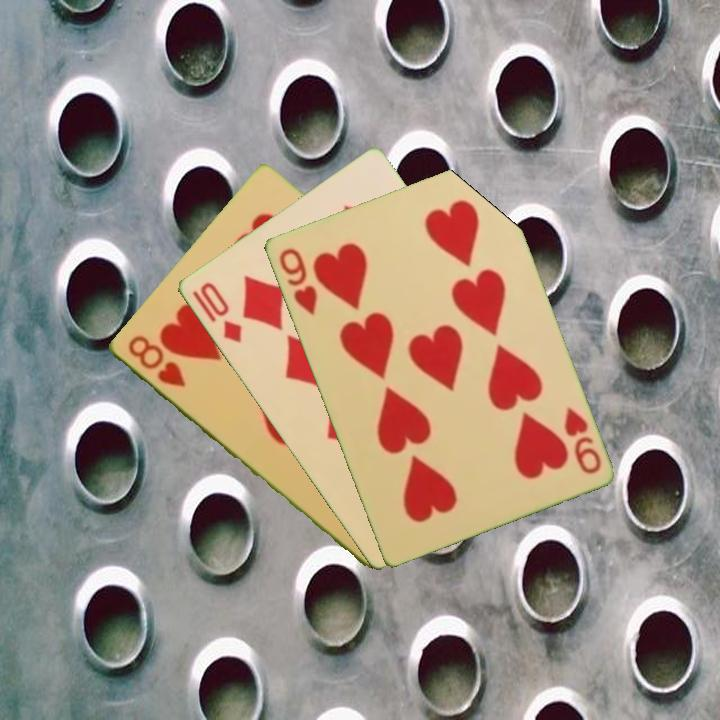10d: (196, 278, 245, 346)
8h: (124, 331, 188, 391)
9h: (274, 244, 320, 318), (559, 402, 604, 477)
